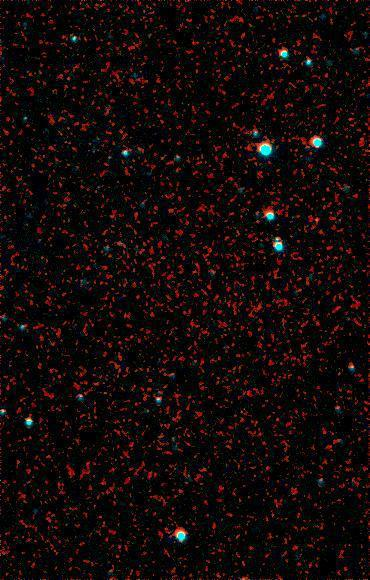star: (299, 208, 329, 238)
